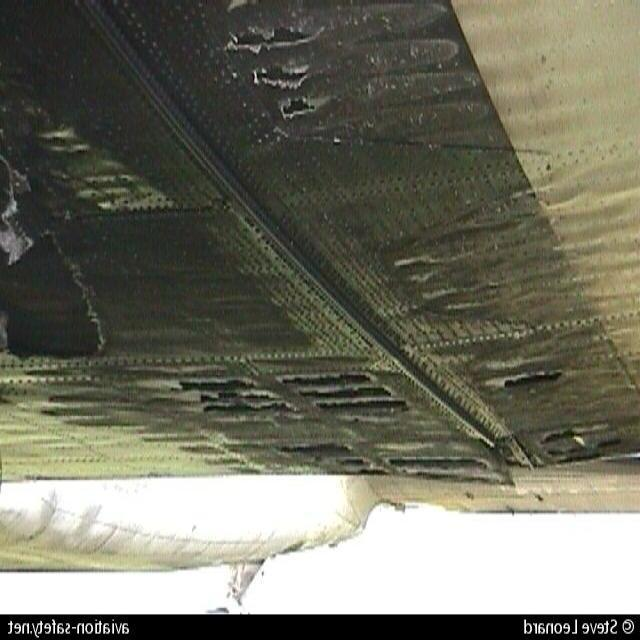crack: (220, 27, 334, 116)
